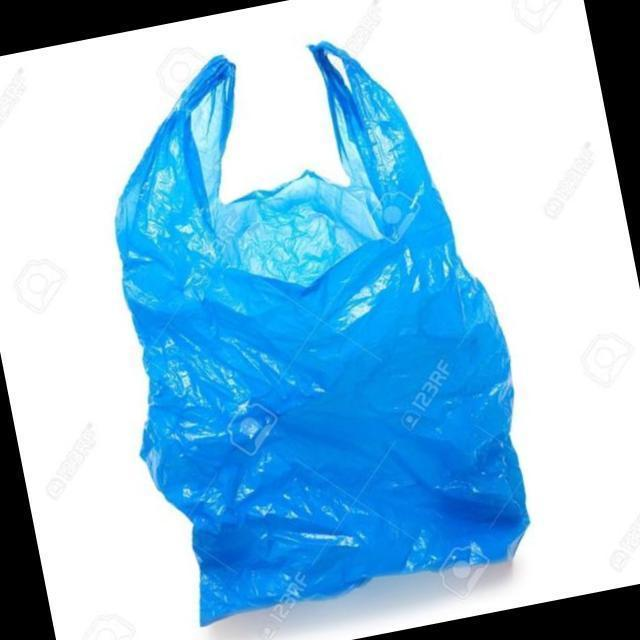Plastic_Bag: (74, 12, 548, 634)
